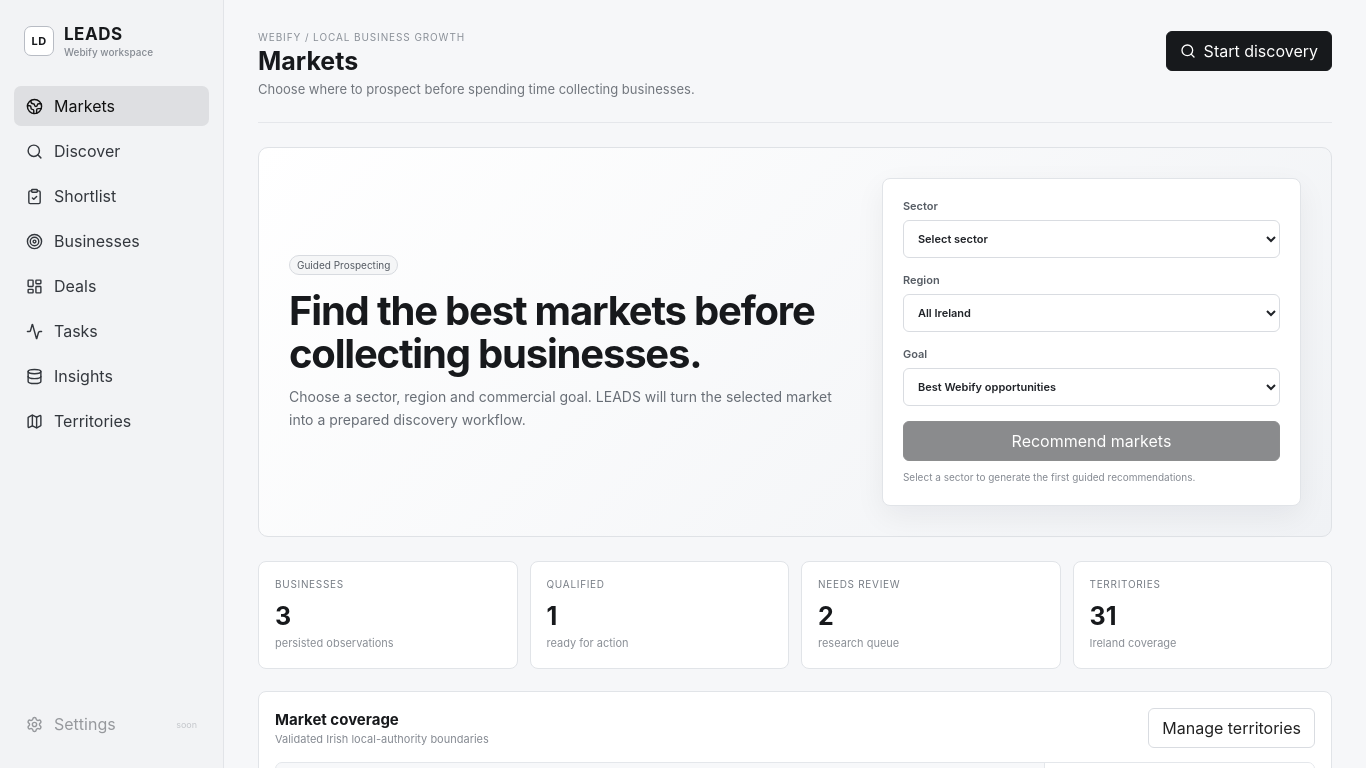
App › renders the validated geographic workspace
The image size is (1366, 768).
Click the button "Territories" at (112, 421), box [14,401,209,441]
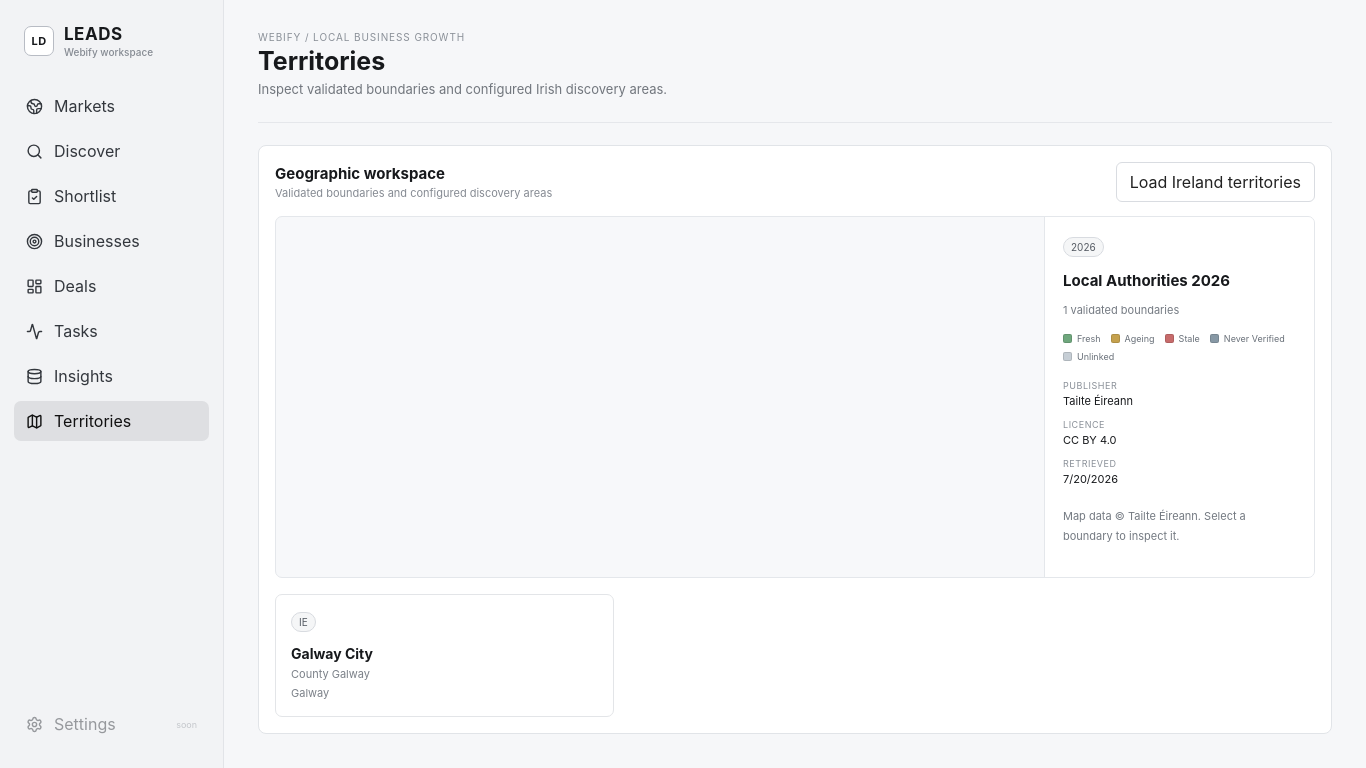
Expected: the heading "Galway City" is shown, [291,645,373,662]
